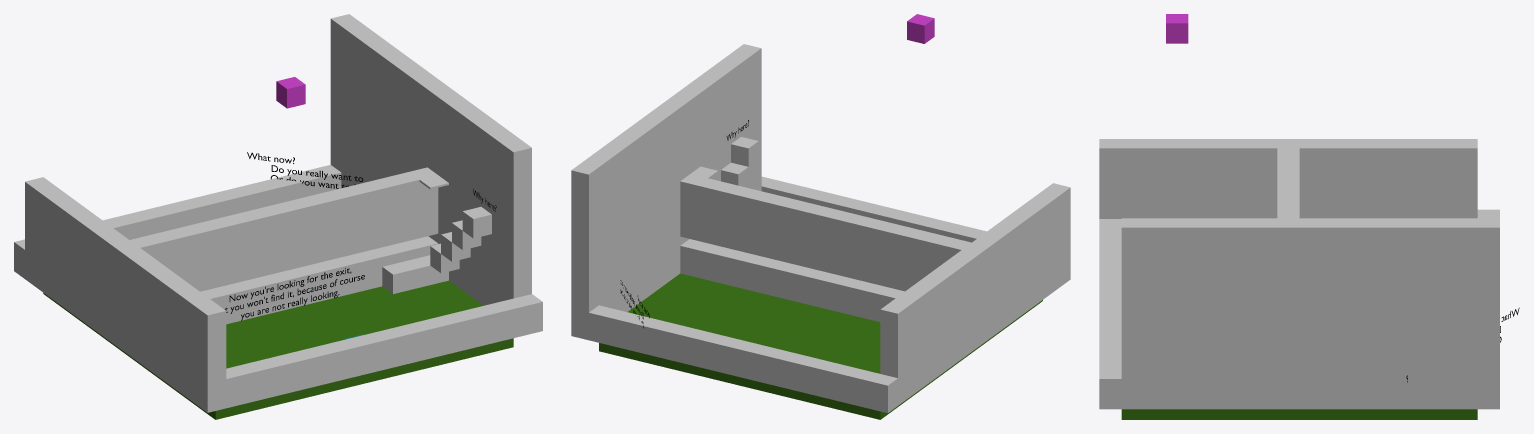
The model's file is world.obj.
3 views of the same model, side by side, from view 1: azimuth 30°, elevation 25°; view 2: azimuth 150°, elevation 25°; view 3: azimuth 270°, elevation 25° (orthographic). The views are drawn at different scales.
Parts seen in each view (by area): view 1: Boundary.003_Cube.004, Boundary.002_Cube.005, Boundary.000_Cube.010, Floor.001_Cube.002, Boundary.001_Cube.000, Floor.002_Cube.006, Boundary.004_Cube.003, Floor.003_Cube.007, Text, Light.0.000_Cube.008, Floor.008_Cube.015, Floor.006_Cube.013 (+2 smaller); view 2: Boundary.003_Cube.004, Boundary.002_Cube.005, Boundary.000_Cube.010, Floor.001_Cube.002, Boundary.004_Cube.003, Floor.002_Cube.006, Boundary.001_Cube.000, Light.0.000_Cube.008, Floor.008_Cube.015, Floor.007_Cube.014; view 3: Boundary.003_Cube.004, Boundary.002_Cube.005, Boundary.001_Cube.000, Floor.001_Cube.002, Boundary.000_Cube.010, Light.0.000_Cube.008.
Part boxes in pixels (x1,y1,x2,y2): Boundary.003_Cube.004: (330, 14, 531, 305); Boundary.002_Cube.005: (25, 177, 226, 412); Boundary.000_Cube.010: (111, 167, 438, 310); Floor.001_Cube.002: (43, 280, 513, 419); Boundary.001_Cube.000: (226, 294, 542, 408); Floor.002_Cube.006: (200, 236, 438, 324); Boundary.004_Cube.003: (14, 164, 341, 278); Floor.003_Cube.007: (382, 255, 448, 293); Text: (225, 268, 364, 320); Light.0.000_Cube.008: (276, 77, 305, 108); Floor.008_Cube.015: (462, 207, 491, 238); Floor.006_Cube.013: (441, 232, 470, 261); Boundary.003_Cube.004: (571, 44, 761, 340); Boundary.002_Cube.005: (880, 183, 1070, 405); Boundary.000_Cube.010: (680, 174, 989, 309); Floor.001_Cube.002: (599, 273, 1042, 419); Boundary.004_Cube.003: (589, 305, 897, 413); Floor.002_Cube.006: (680, 239, 904, 321); Boundary.001_Cube.000: (761, 176, 986, 242); Light.0.000_Cube.008: (907, 14, 934, 43); Floor.008_Cube.015: (731, 137, 758, 166); Floor.007_Cube.014: (721, 162, 748, 187); Boundary.003_Cube.004: (1121, 218, 1499, 409); Boundary.002_Cube.005: (1099, 139, 1477, 218); Boundary.001_Cube.000: (1099, 219, 1121, 409); Floor.001_Cube.002: (1121, 409, 1477, 419); Boundary.000_Cube.010: (1277, 139, 1299, 368); Light.0.000_Cube.008: (1166, 14, 1188, 43).
Bounding box in the file's own units: 18.1 × 15 × 18.89.
